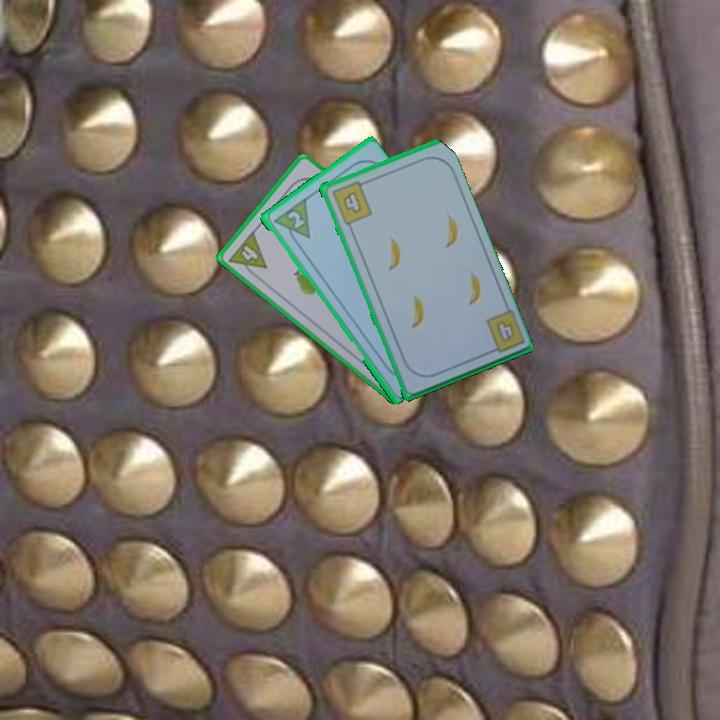2p: (283, 207, 307, 231)
4b: (328, 177, 375, 227), (482, 306, 526, 357)
4p: (225, 227, 270, 282)
